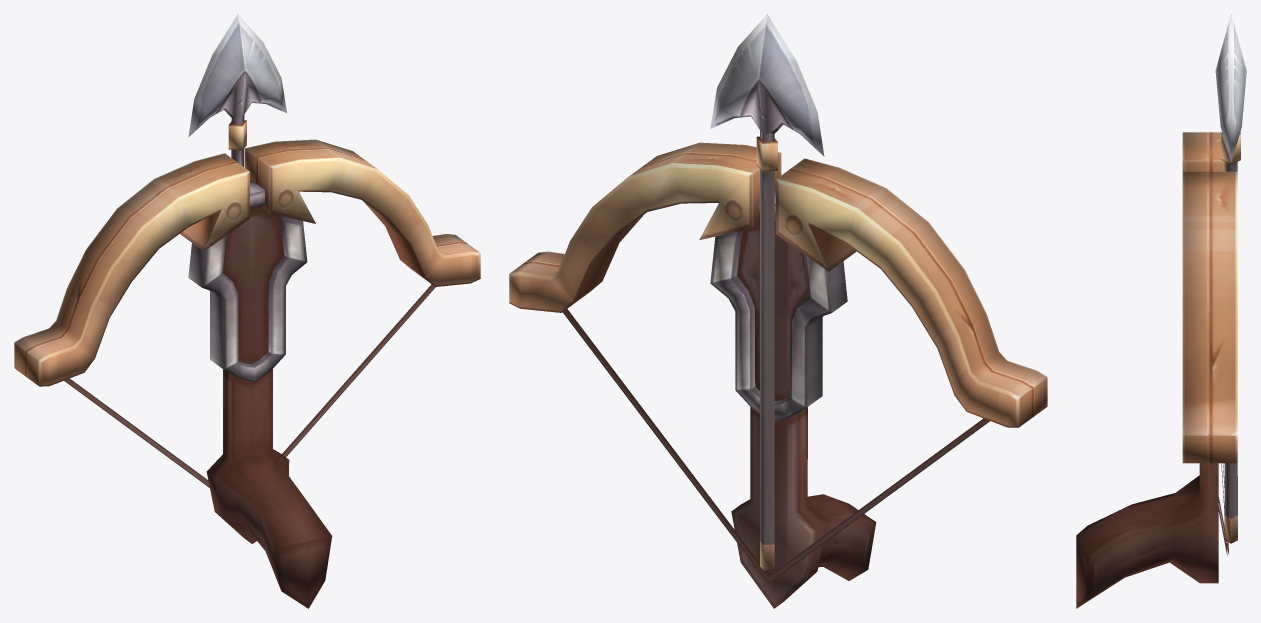
Rendered from weapon_archer_1002.FBX.
3 views of the same model, side by side, from view 1: azimuth 30°, elevation 25°; view 2: azimuth 150°, elevation 25°; view 3: azimuth 270°, elevation 25° (orthographic). The views are drawn at different scales.
Visible parts, largest first — view 1: weapon_archer_1002; view 2: weapon_archer_1002; view 3: weapon_archer_1002.
Boxes of the visible parts, left/top/right/bottom form: weapon_archer_1002: left=14, top=14, right=480, bottom=608; weapon_archer_1002: left=509, top=14, right=1047, bottom=608; weapon_archer_1002: left=1076, top=14, right=1246, bottom=608.
Size of the model in its own units: 0.7768 by 0.9132 by 0.2373.
